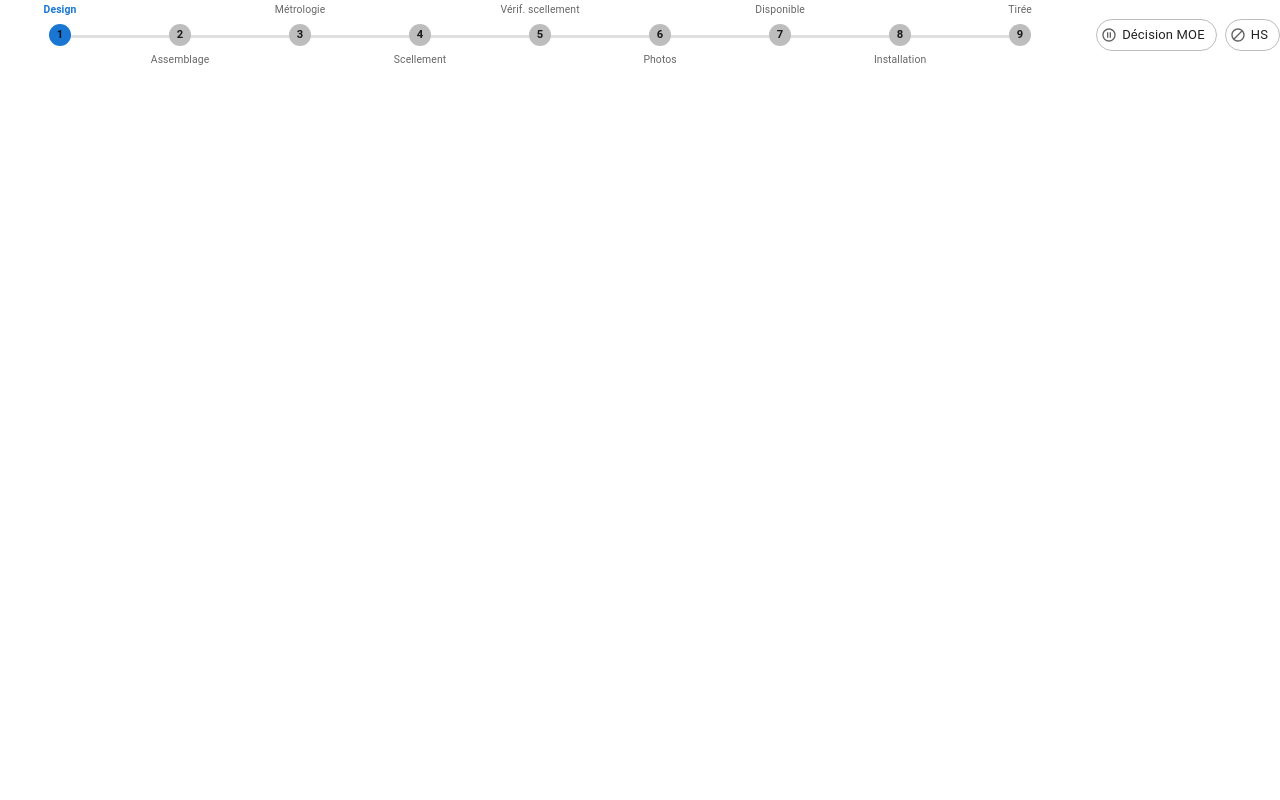
Test: FsecWorkflowStepper › Step Click Interactions › should open confirmation dialog when clicking a different step
Click the text "2".
click(180, 35)  # box [169,24,191,46]
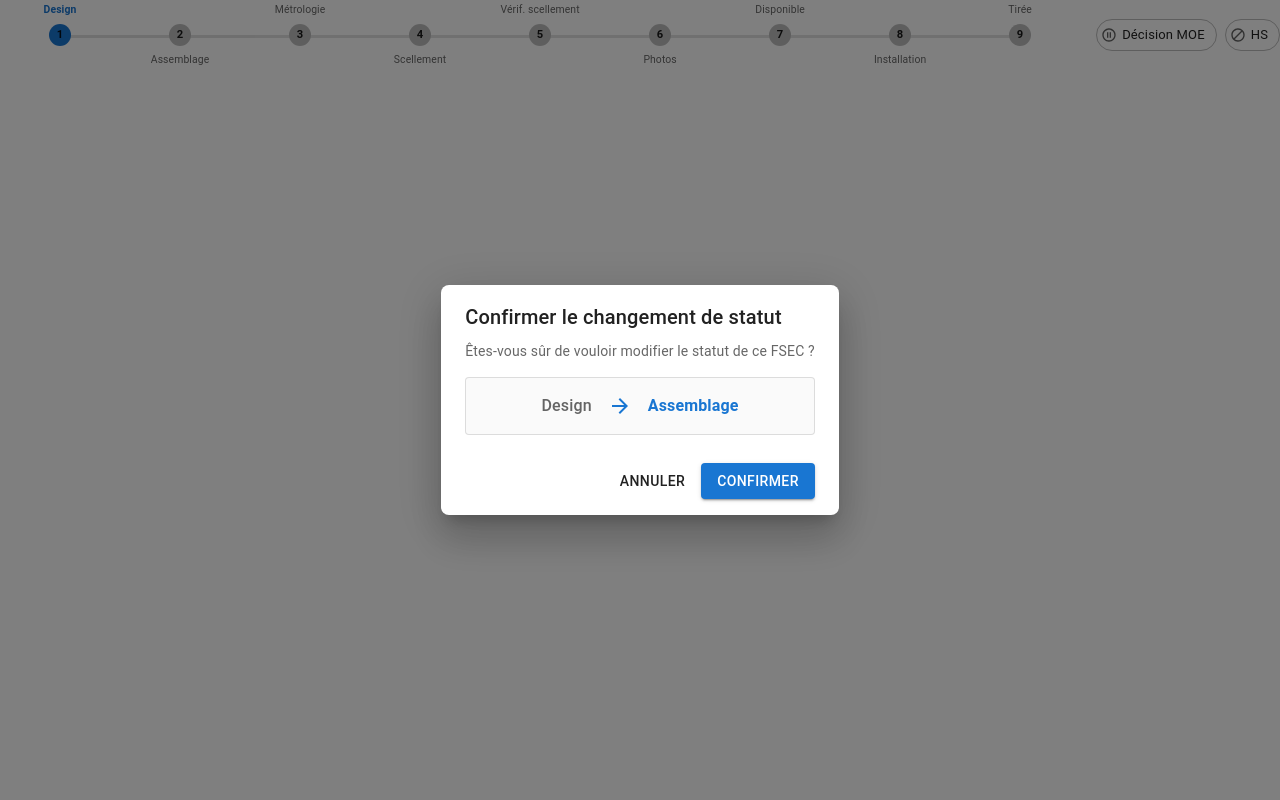
Expected: the heading "Confirmer le changement de statut" is shown, [465,305,782,329]
Expected: the text "Êtes-vous sûr de vouloir modifier le statut de ce FSEC ?" is shown, [465,341,815,361]
